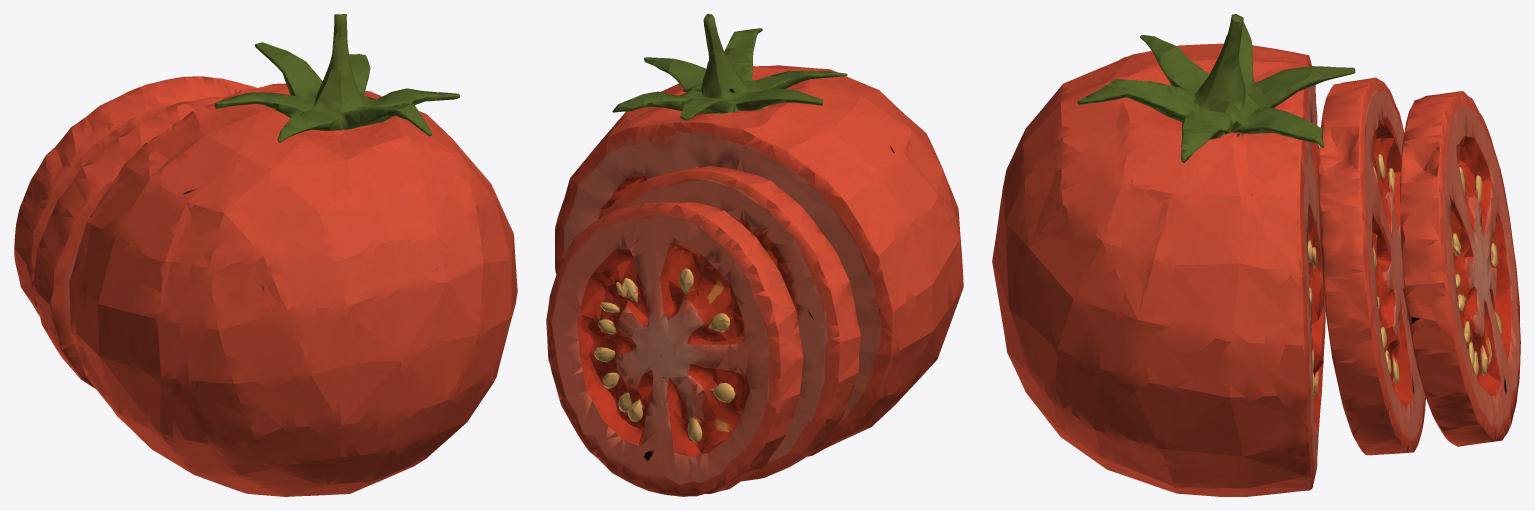
File: new_tomato_2.fbx
3 renders of one model, left to right at view 1: azimuth 30°, elevation 25°; view 2: azimuth 150°, elevation 25°; view 3: azimuth 270°, elevation 25°, orthographic. The views are drawn at different scales.
Visible parts, largest first — view 1: tripo_node_33f15931; view 2: tripo_node_33f15931; view 3: tripo_node_33f15931.
Boxes of the visible parts, left/top/right/bottom form: tripo_node_33f15931: left=14, top=14, right=517, bottom=496; tripo_node_33f15931: left=546, top=14, right=963, bottom=496; tripo_node_33f15931: left=992, top=14, right=1520, bottom=496.
Bounding box in the file's own units: 87.99 × 98.03 × 96.81.
Materials: 1 (1 with a texture image).
